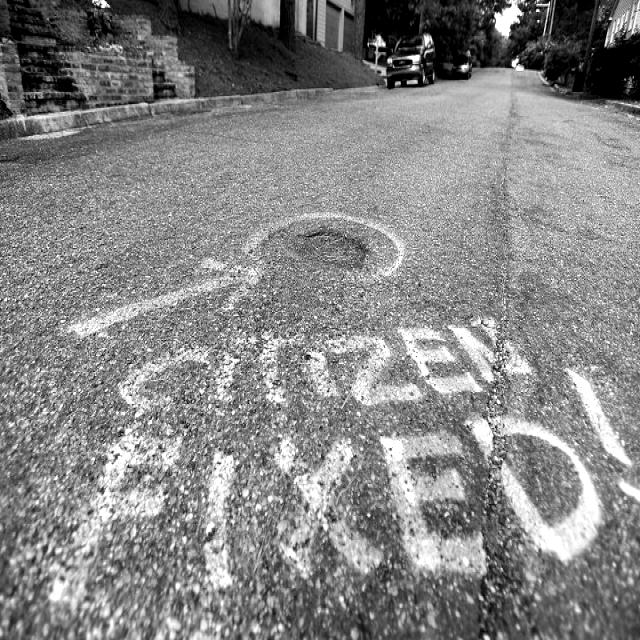pathole: (245, 212, 405, 281)
